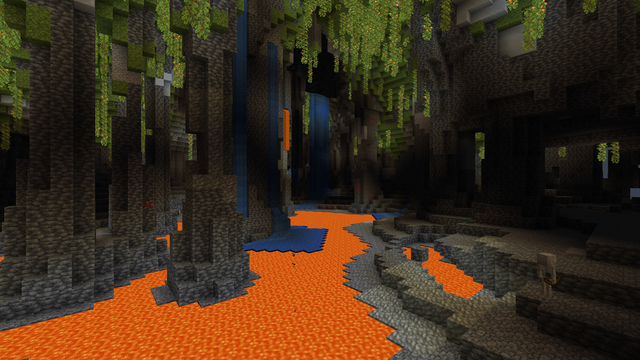squelettes: (537, 252, 555, 299)
